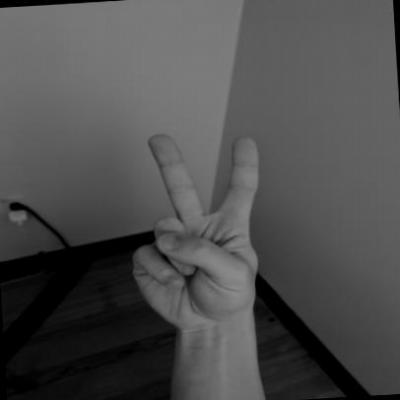hand: (119, 125, 273, 334)
